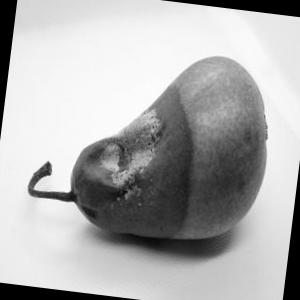fruit: (38, 23, 290, 270)
